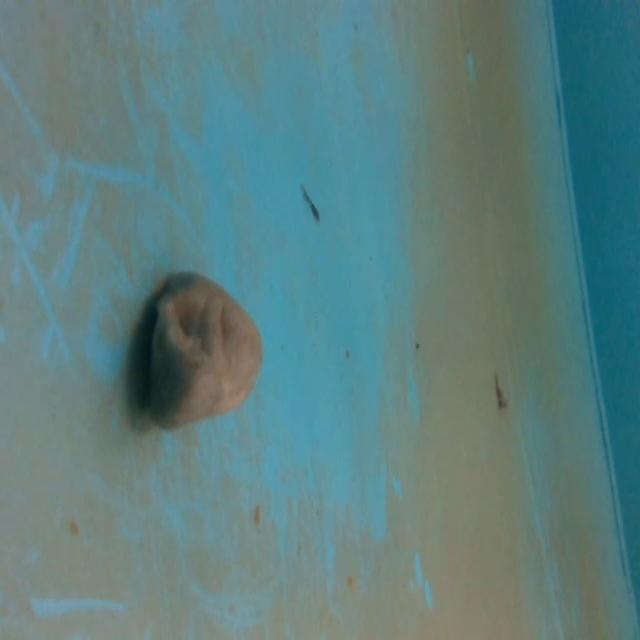rock: (138, 263, 266, 441)
